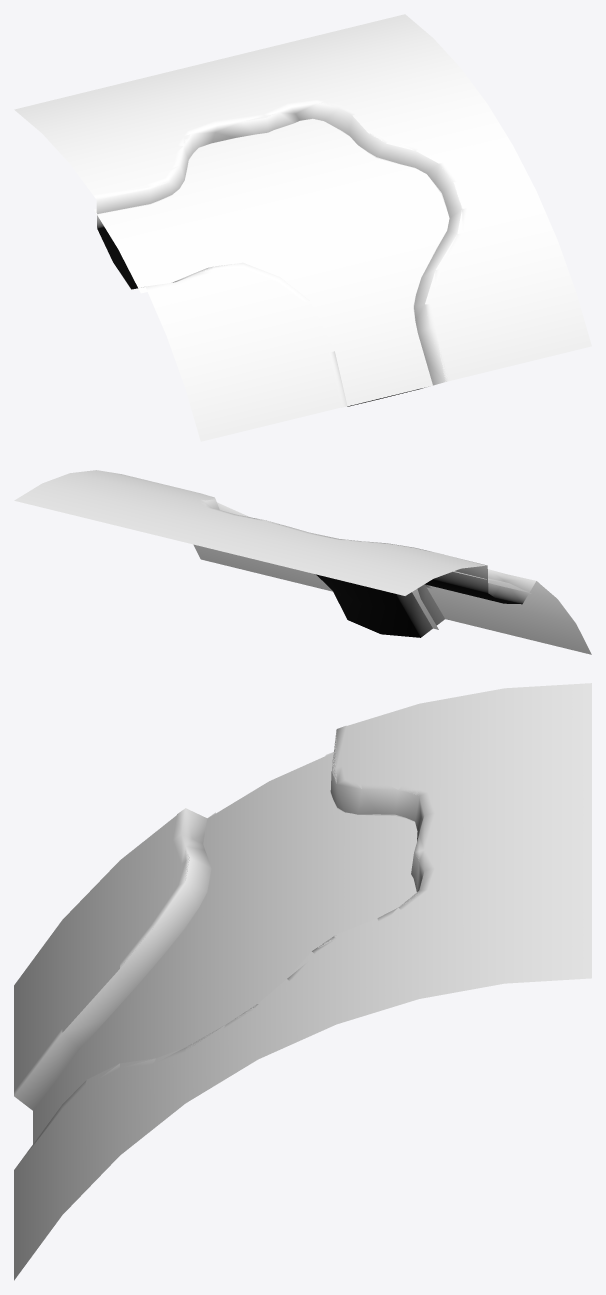
Rendered from grd_Rnw_P_0.dae.
3 views of the same model, one above another, from view 1: azimuth 30°, elevation 25°; view 2: azimuth 150°, elevation 25°; view 3: azimuth 270°, elevation 25° (orthographic). The views are drawn at different scales.
Visible parts, largest first — view 1: grass_1_0, river_2_0, cliff_river_0_0, river_edge_3_0; view 2: grass_1_0, cliff_river_0_0, river_2_0; view 3: grass_1_0, river_2_0, cliff_river_0_0, river_edge_3_0.
Boxes of the visible parts, <box> form: grass_1_0: <box>14,14,591,441</box>; river_2_0: <box>94,119,448,407</box>; cliff_river_0_0: <box>93,99,467,407</box>; river_edge_3_0: <box>94,118,449,407</box>; grass_1_0: <box>14,470,591,654</box>; cliff_river_0_0: <box>198,492,538,637</box>; river_2_0: <box>412,571,531,629</box>; grass_1_0: <box>14,683,591,1280</box>; river_2_0: <box>33,753,416,1143</box>; cliff_river_0_0: <box>14,725,434,1166</box>; river_edge_3_0: <box>33,752,417,1114</box>.
Bounding box in the file's own units: 512 × 264 × 423.
Materials: 4 (1 with a texture image).
